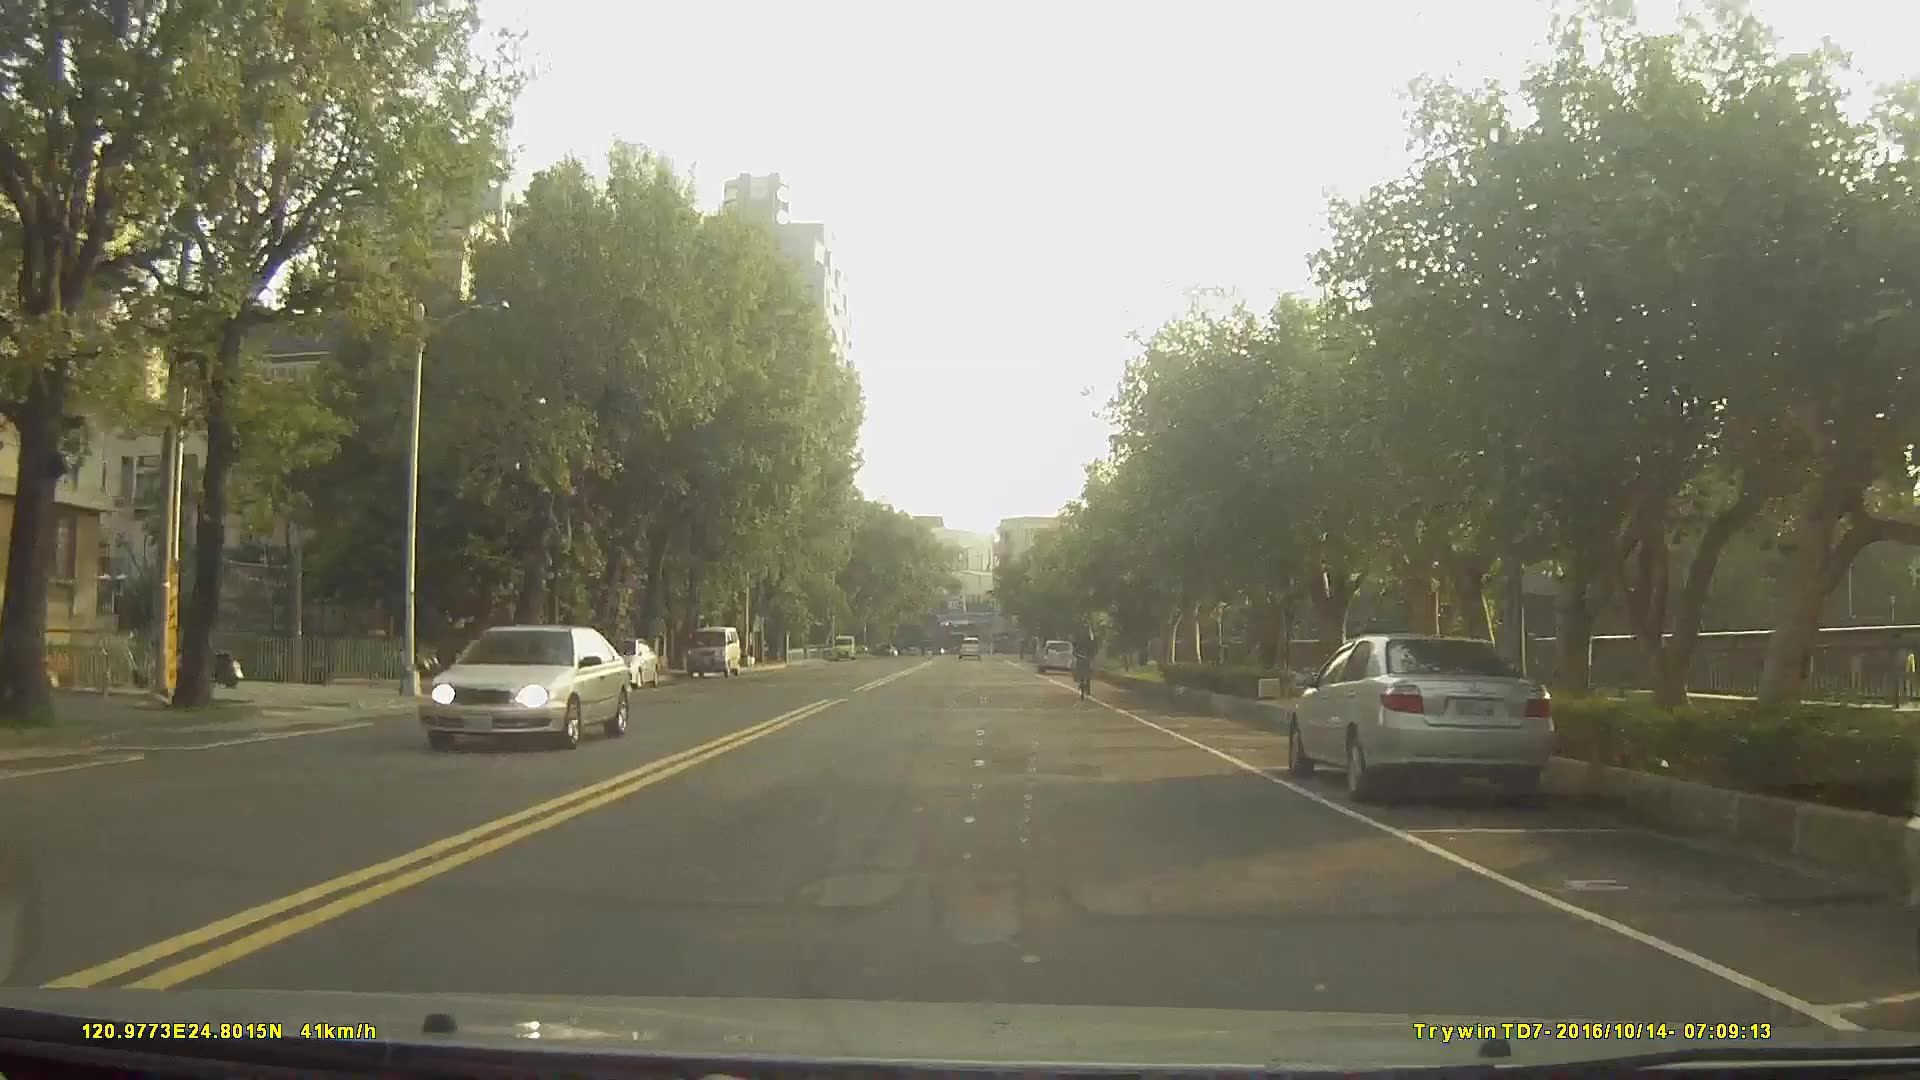rider: (1072, 617, 1099, 701)
vehicle: (1285, 629, 1557, 804), (416, 621, 632, 752), (595, 635, 659, 688), (685, 623, 741, 676), (1036, 635, 1078, 673), (957, 632, 982, 658)
